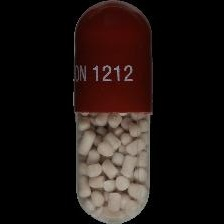0032-1212: (0, 0, 224, 224)
